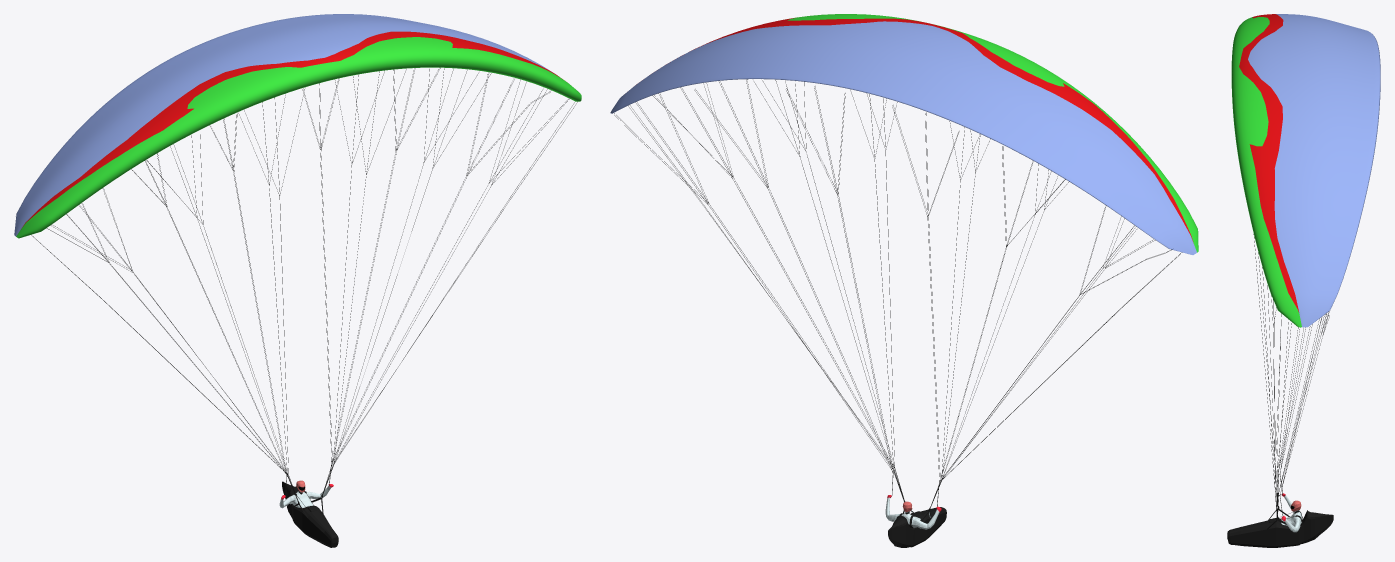
Rendered from glider_model_sol.glb.
The picture shows the model from 3 angles, left to right: view 1: azimuth 30°, elevation 25°; view 2: azimuth 150°, elevation 25°; view 3: azimuth 270°, elevation 25°; orthographic projection. The views are drawn at different scales.
Visible parts, largest first — view 1: model_like_sol; view 2: model_like_sol; view 3: model_like_sol.
Part boxes in pixels (x1=…): model_like_sol: x1=14, y1=14, x2=581, y2=547; model_like_sol: x1=610, y1=14, x2=1198, y2=547; model_like_sol: x1=1227, y1=14, x2=1380, y2=547.
Bounding box in the file's own units: 4.1 × 3.37 × 0.9636.
